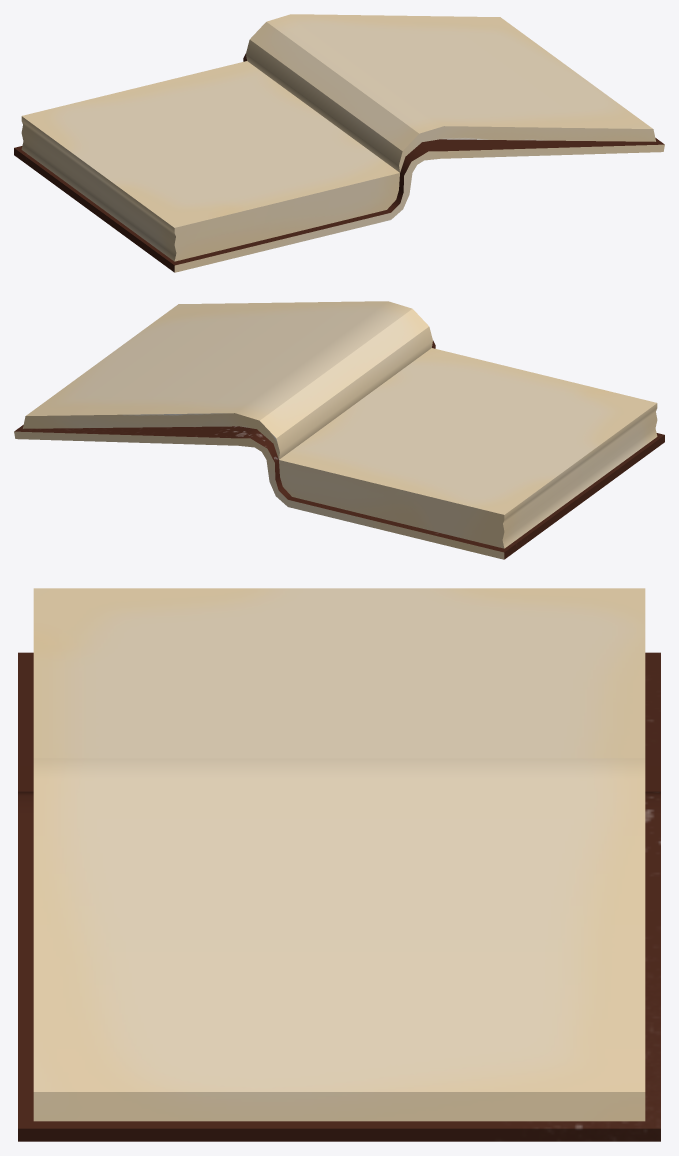
The model's file is book_open2.fbx.
3 renders of one model, top to bottom at view 1: azimuth 30°, elevation 25°; view 2: azimuth 150°, elevation 25°; view 3: azimuth 270°, elevation 25°, orthographic. The views are drawn at different scales.
Visible parts, largest first — view 1: polySurface26, polySurface27, pCube31; view 2: polySurface26, polySurface27, pCube31; view 3: polySurface27, polySurface26, pCube31.
Part boxes in pixels (<box>): polySurface26: <box>21,61,399,261</box>; polySurface27: <box>246,14,655,172</box>; pCube31: <box>14,53,664,272</box>; polySurface26: <box>279,348,657,548</box>; polySurface27: <box>23,301,432,459</box>; pCube31: <box>14,340,664,559</box>; polySurface27: <box>33,758,645,1121</box>; polySurface26: <box>33,588,645,758</box>; pCube31: <box>18,652,660,1141</box>.
Bounding box in the file's own units: 26.16 × 3.94 × 14.86.
1 material, 1 textured.
